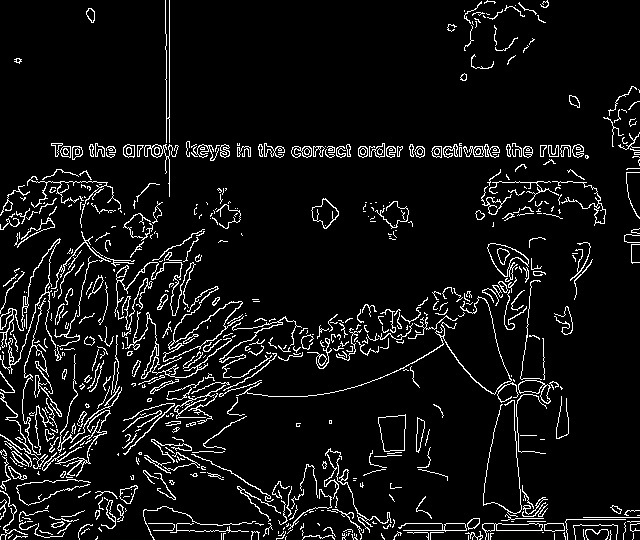left: (204, 197, 248, 240), (376, 193, 416, 235)
right: (301, 193, 347, 236)
up: (114, 203, 161, 245)
